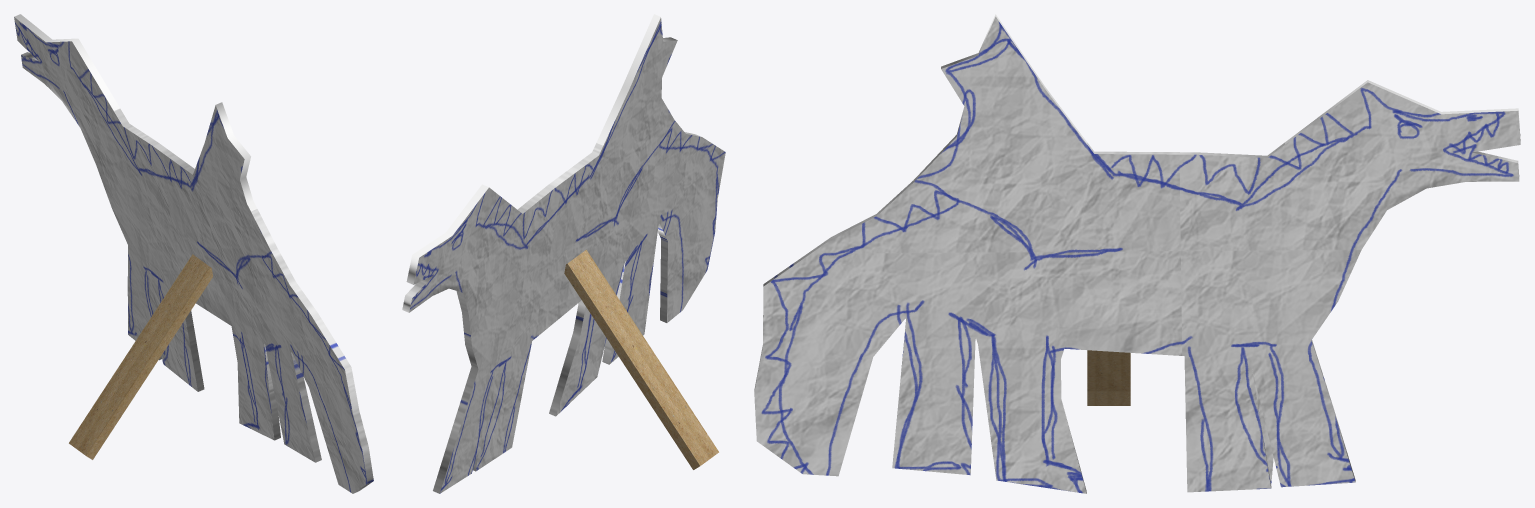
Rendered from Dragon_Boss.fbx.
The picture shows the model from 3 angles, left to right: view 1: azimuth 30°, elevation 25°; view 2: azimuth 150°, elevation 25°; view 3: azimuth 270°, elevation 25°; orthographic projection. The views are drawn at different scales.
Visible parts, largest first — view 1: pPlane2; view 2: pPlane2; view 3: pPlane2.
Boxes of the visible parts, x1,y1,x2,y2 form: pPlane2: [14, 14, 373, 493]; pPlane2: [402, 14, 725, 493]; pPlane2: [754, 14, 1520, 493].
Size of the model in its own units: 2.87 by 6.26 by 9.78.
2 materials, 2 textured.
